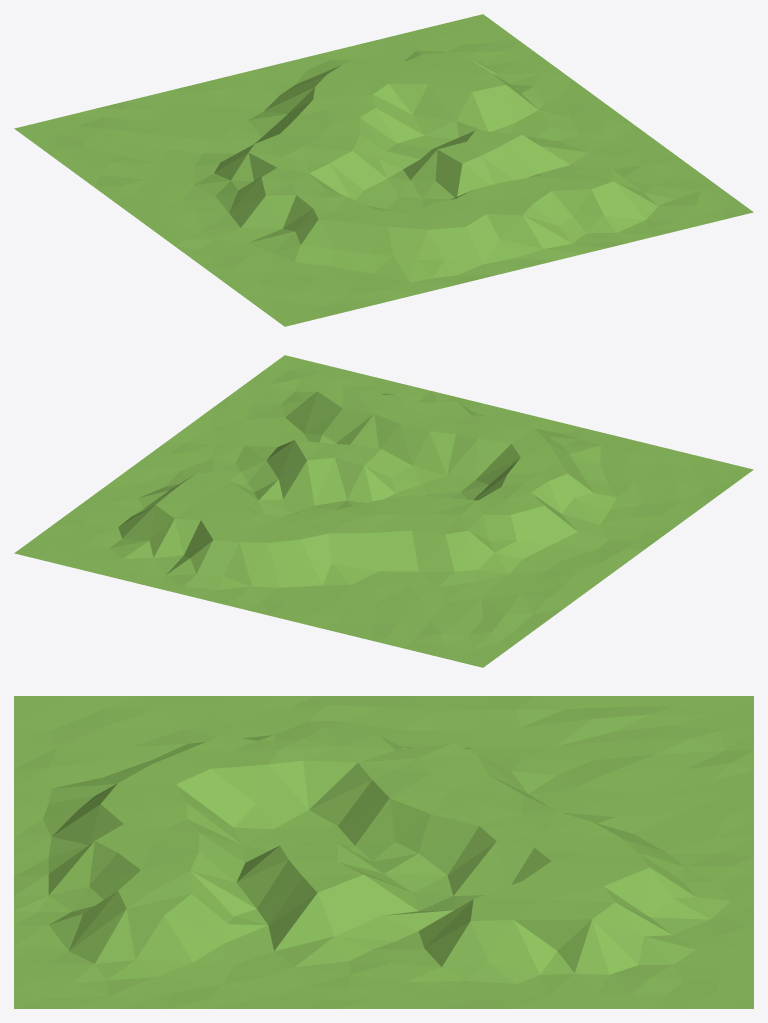
Rendered from MT_Terrain_M_c_04_LOD.fbx.
The picture shows the model from 3 angles, top to bottom: view 1: azimuth 30°, elevation 25°; view 2: azimuth 150°, elevation 25°; view 3: azimuth 270°, elevation 25°; orthographic projection. The views are drawn at different scales.
Parts seen in each view (by area): view 1: MT_Terrain_M_c_04_LOD0; view 2: MT_Terrain_M_c_04_LOD0; view 3: MT_Terrain_M_c_04_LOD0.
Boxes of the visible parts, x1=… form: MT_Terrain_M_c_04_LOD0: x1=14, y1=14, x2=753, y2=326; MT_Terrain_M_c_04_LOD0: x1=14, y1=355, x2=753, y2=667; MT_Terrain_M_c_04_LOD0: x1=14, y1=696, x2=753, y2=1008.
Size of what is drawn, in the model's own units: 5000 by 276 by 5000.
